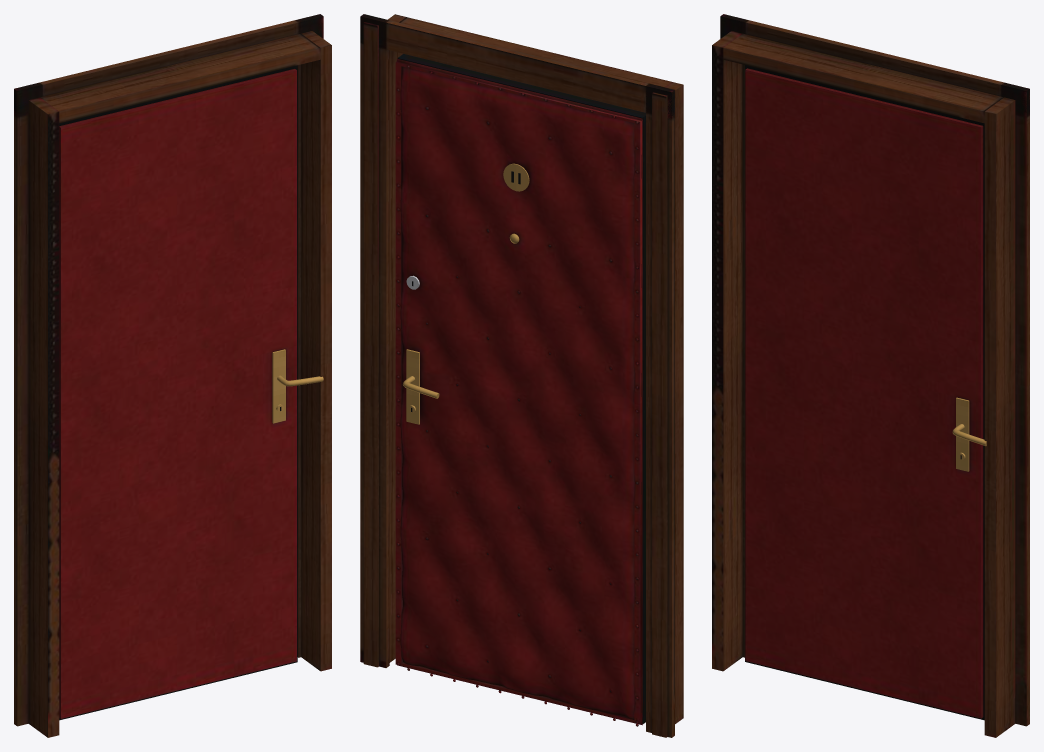
The model's file is pdoor_red_web.glb.
The picture shows the model from 3 angles, left to right: view 1: azimuth 30°, elevation 25°; view 2: azimuth 150°, elevation 25°; view 3: azimuth 330°, elevation 25°; orthographic projection.
Visible parts, largest first — view 1: Door_Mesh, Frame_Mesh, Chrome_Hw_Handle_In; view 2: Door_Mesh, Frame_Mesh, Chrome_Hw_Handle, Chrome_Hw_Number; view 3: Door_Mesh, Frame_Mesh, Chrome_Hw_Handle_In.
Boxes of the visible parts, x1=… form: Door_Mesh: x1=59, y1=65, x2=297, y2=720; Frame_Mesh: x1=14, y1=14, x2=331, y2=737; Chrome_Hw_Handle_In: x1=272, y1=349, x2=323, y2=423; Door_Mesh: x1=395, y1=54, x2=645, y2=726; Frame_Mesh: x1=360, y1=14, x2=683, y2=737; Chrome_Hw_Handle: x1=403, y1=349, x2=439, y2=424; Chrome_Hw_Number: x1=503, y1=163, x2=529, y2=191; Door_Mesh: x1=745, y1=65, x2=984, y2=720; Frame_Mesh: x1=712, y1=14, x2=1029, y2=737; Chrome_Hw_Handle_In: x1=952, y1=397, x2=986, y2=471.
Bounding box in the file's own units: 1.09 × 2.16 × 0.2269.
Materials: 4 (4 with a texture image).
